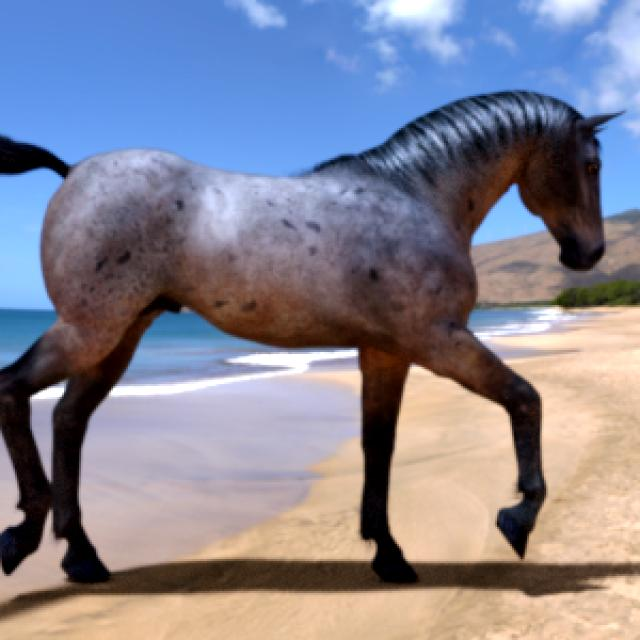horse: (0, 92, 616, 581)
